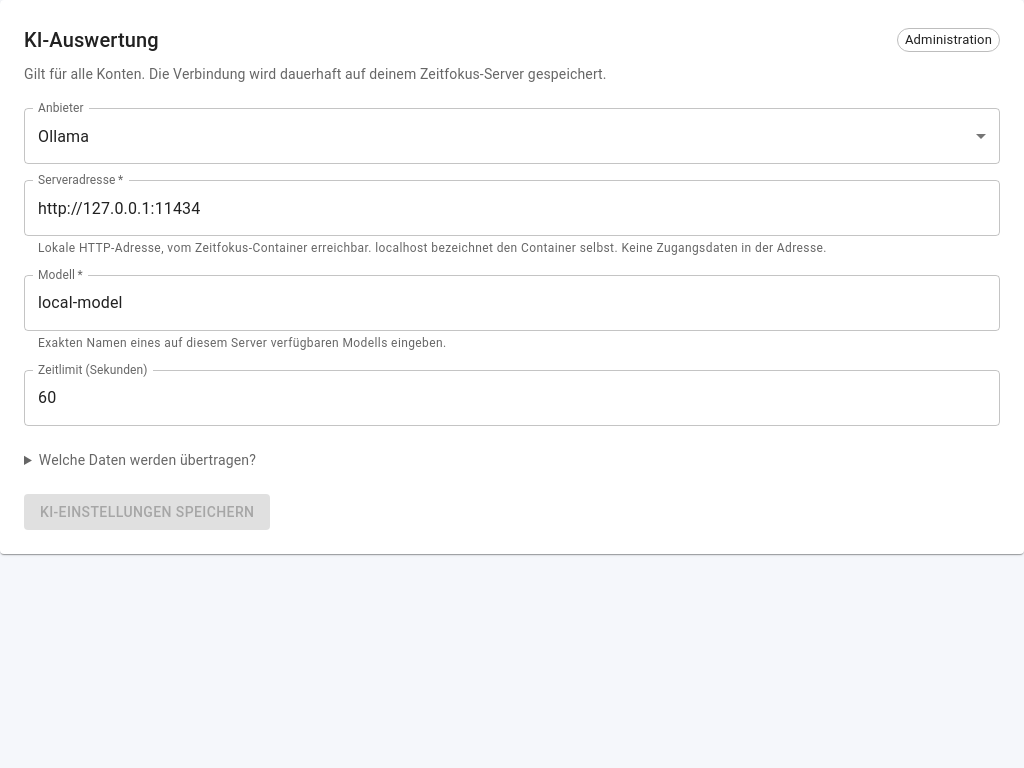
administrator can select either provider and save the complete server configuration
Select "LM Studio" in the dropdown labelled "Anbieter": [512, 136] box [24,108,1000,164]
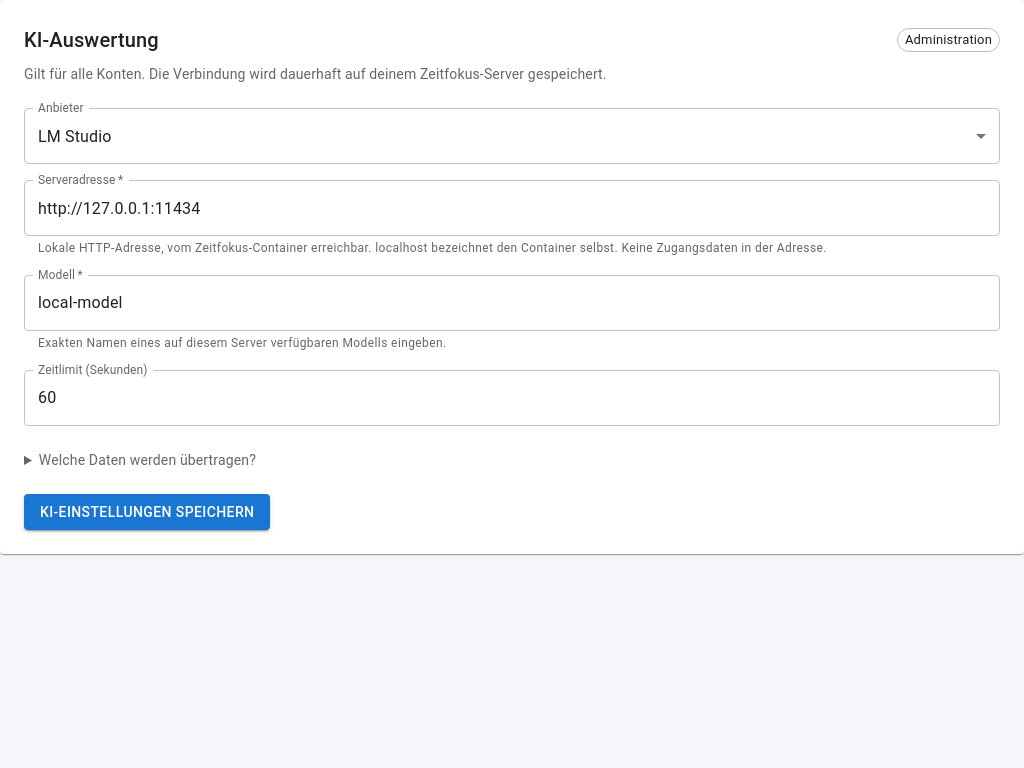
Submit the form, box [24,108,1000,530]
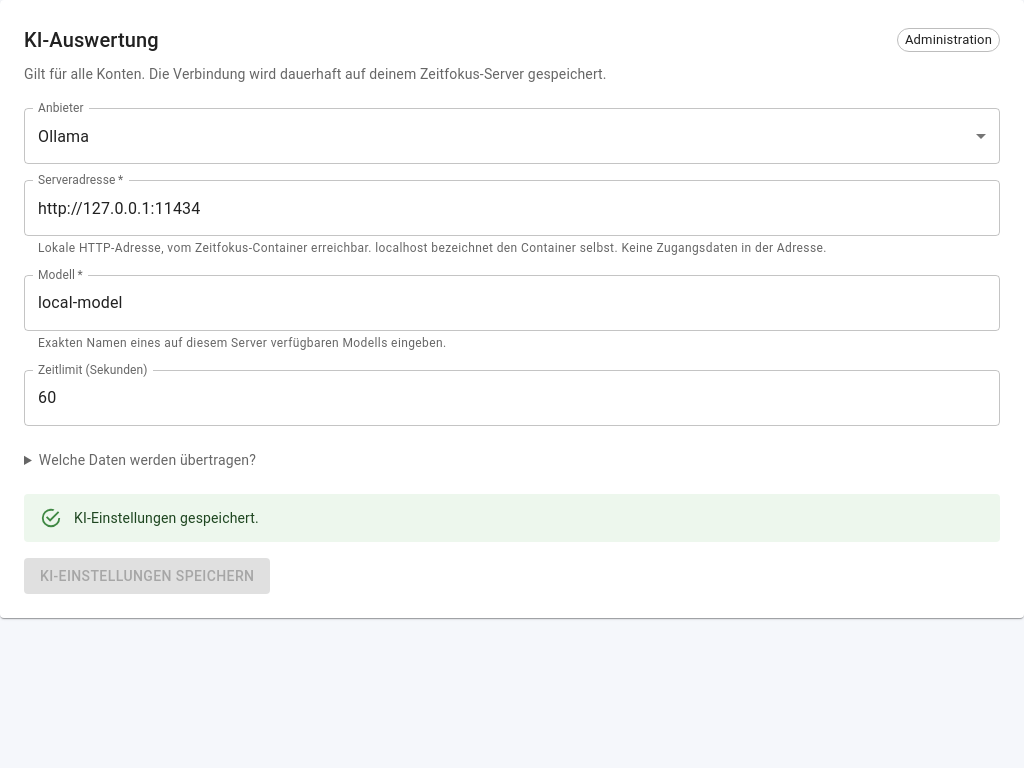
Expected: the text "KI-Einstellungen gespeichert." is shown, [74,510,259,526]
